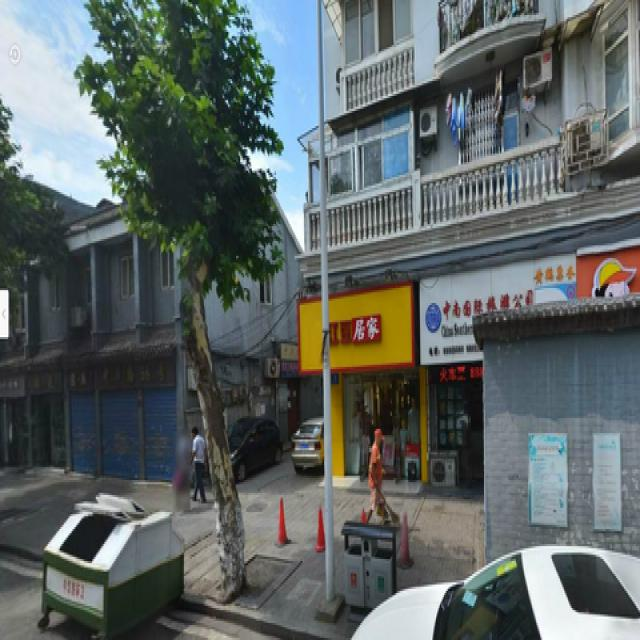meta: (89, 2, 292, 580)
